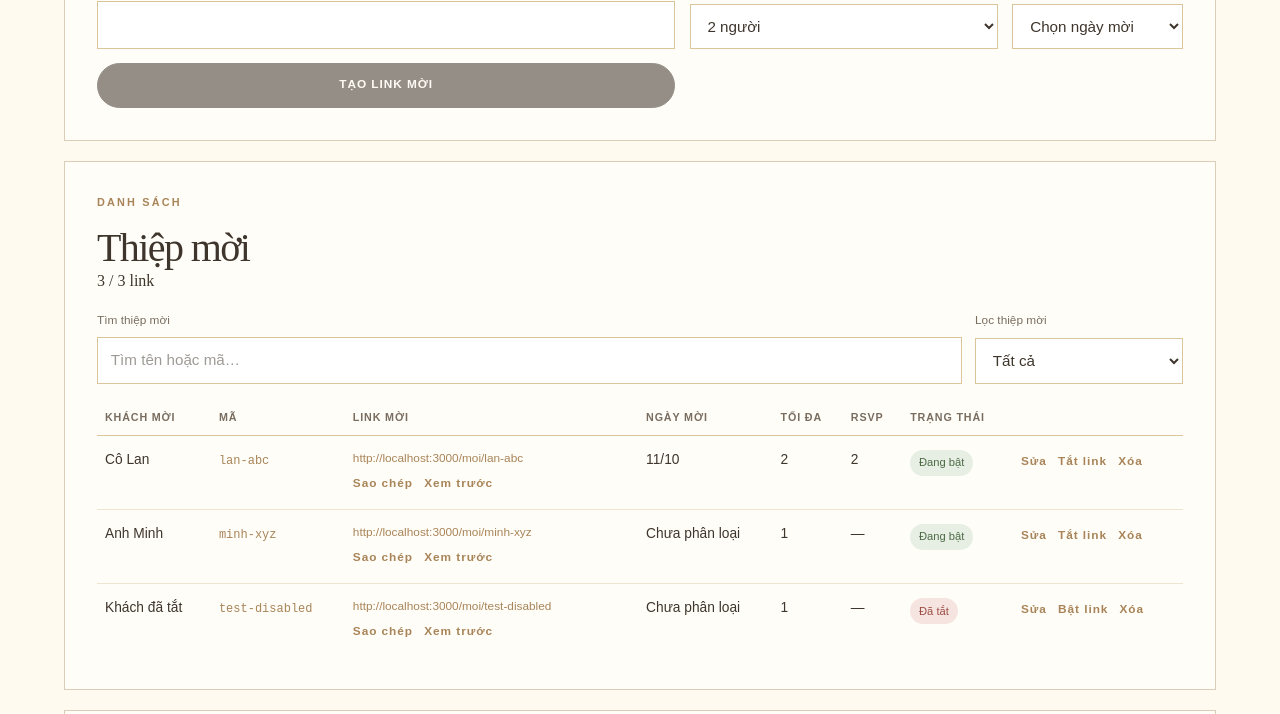
Test: AdminDashboard › filters invitation links by lifecycle and RSVP state
This screenshot has width=1280, height=714.
(page scrolled)
Select "Đã tắt" in the dropdown labelled "Lọc thiệp mời" at coordinates (1079, 361), box 975,338 -> 1183,384
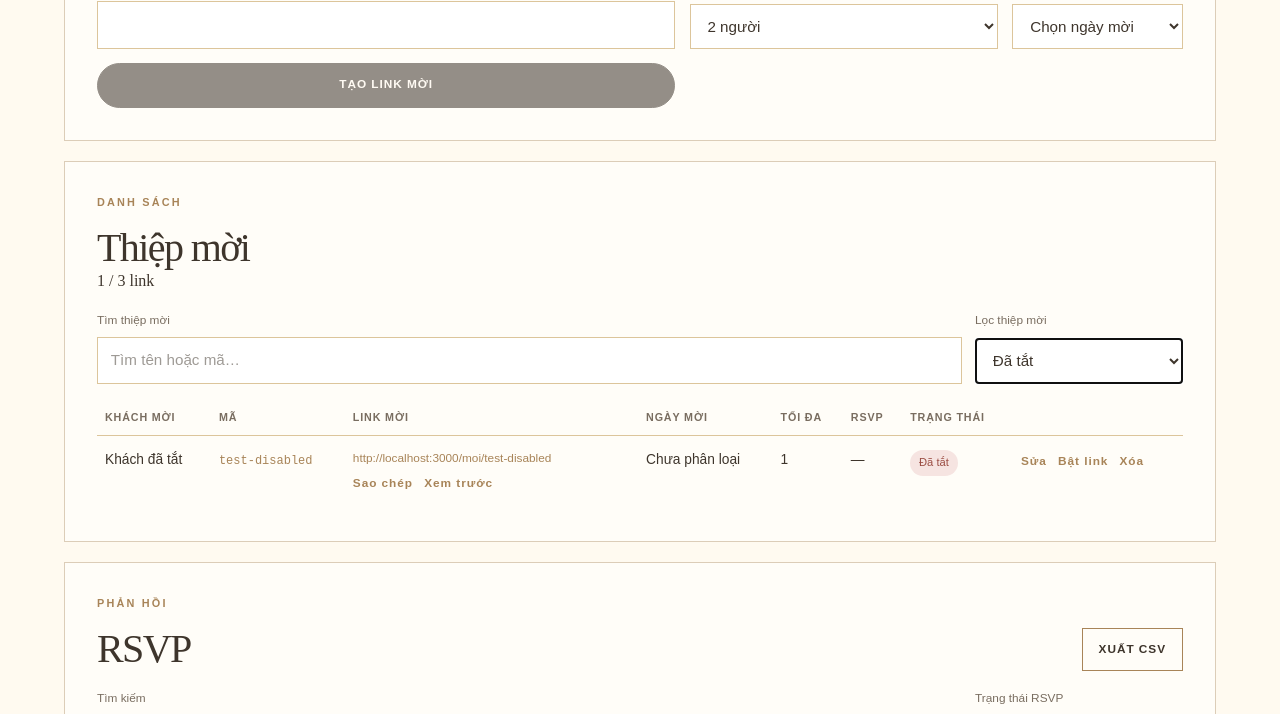
expect the link "http://localhost:3000/moi/test-disabled" is shown: met, box 353,450 -> 551,467
expect the link "http://localhost:3000/moi/lan-abc" is gone: met
Select "Đã RSVP" in the dropdown labelled "Lọc thiệp mời" at coordinates (1079, 361), box 975,338 -> 1183,384
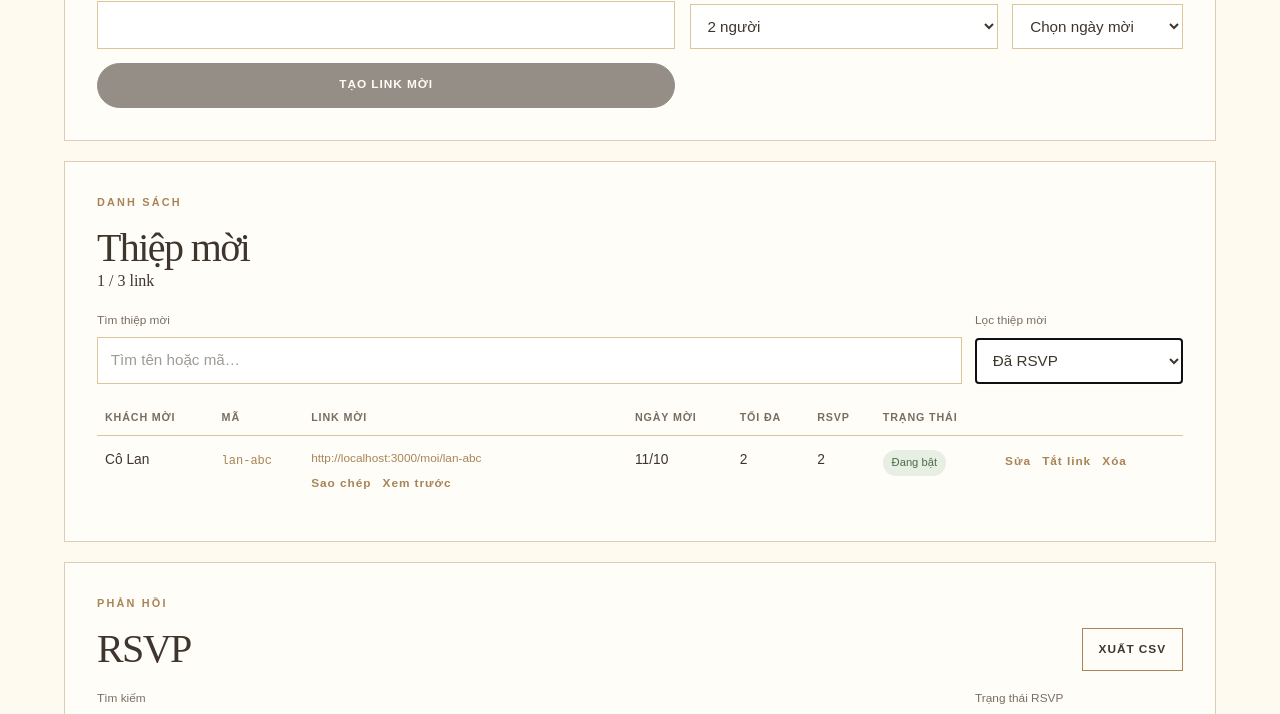
expect the link "http://localhost:3000/moi/minh-xyz" is not shown: met
expect the link "http://localhost:3000/moi/lan-abc" is shown: met, box 311,450 -> 482,467
